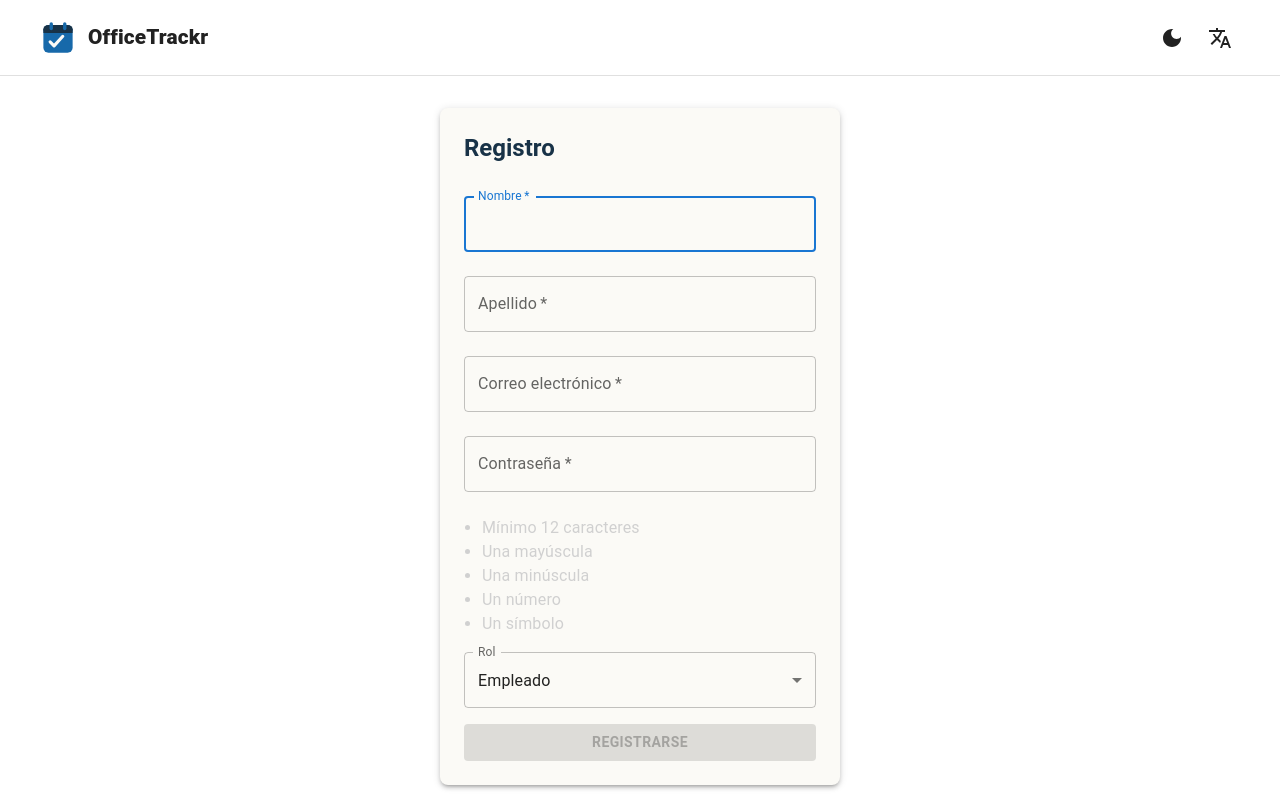
Test: Register › shows a mapped error message for a weak password (PW002)
The image size is (1280, 800).
Type "John" into the field labelled "Nombre *". click: (640, 224)
box: [464,196,816,252]
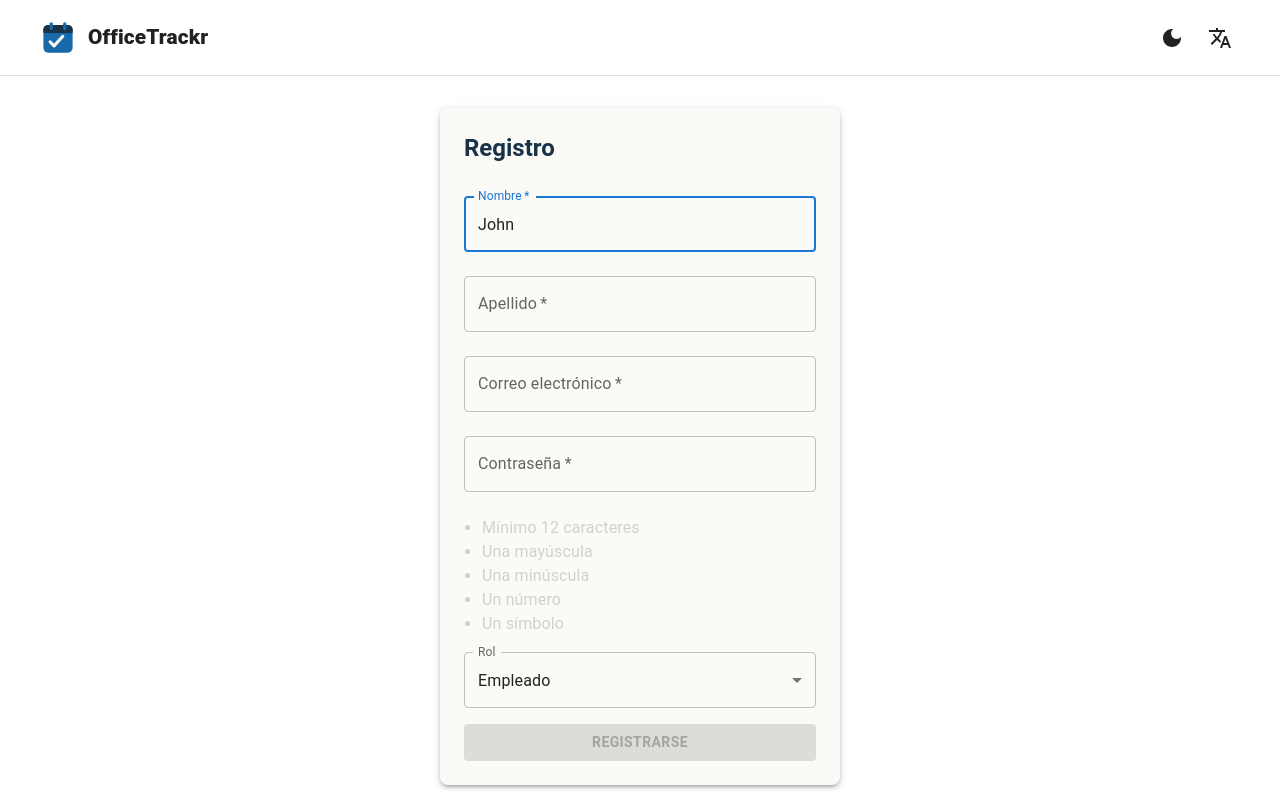
Type "Doe" into the field labelled "Apellido *". click: (640, 304)
box: [464,276,816,332]
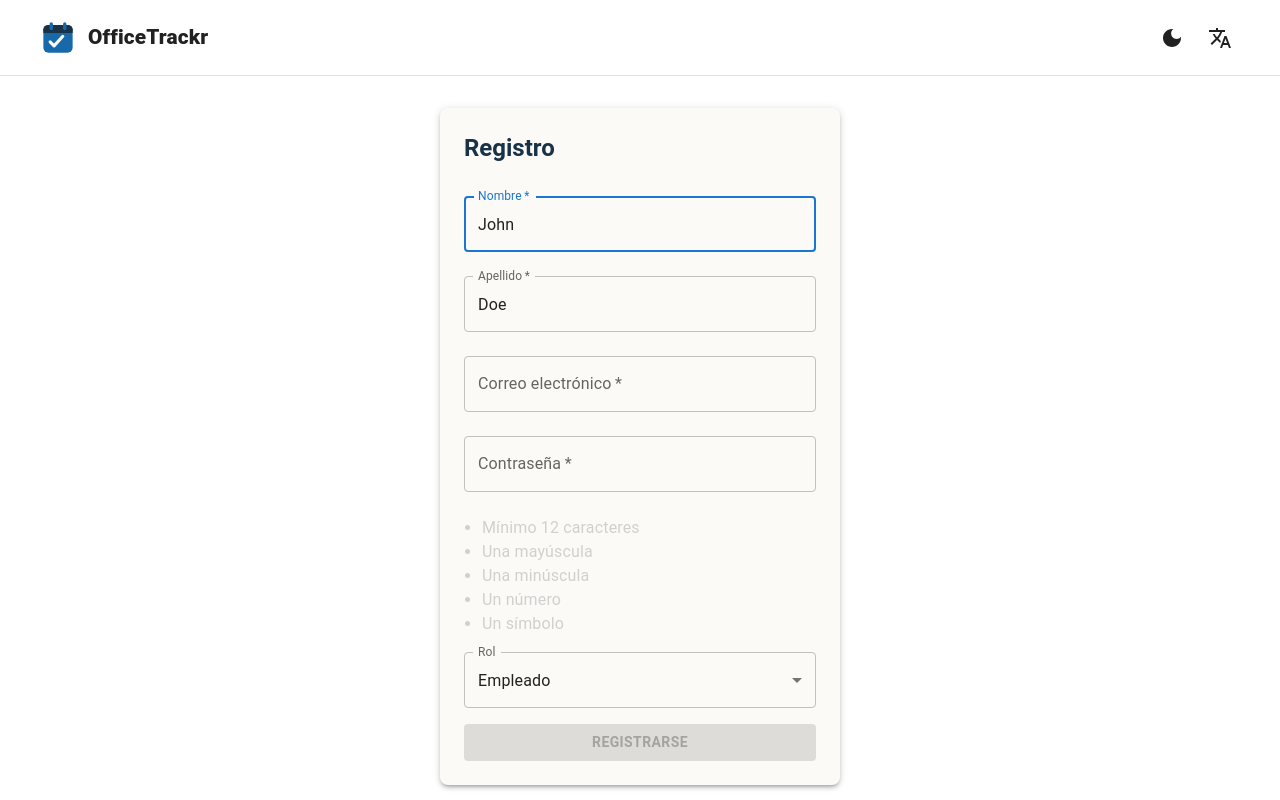
Type "john@example.com" into the field labelled "Correo electrónico *". click: (640, 384)
box: [464,356,816,412]
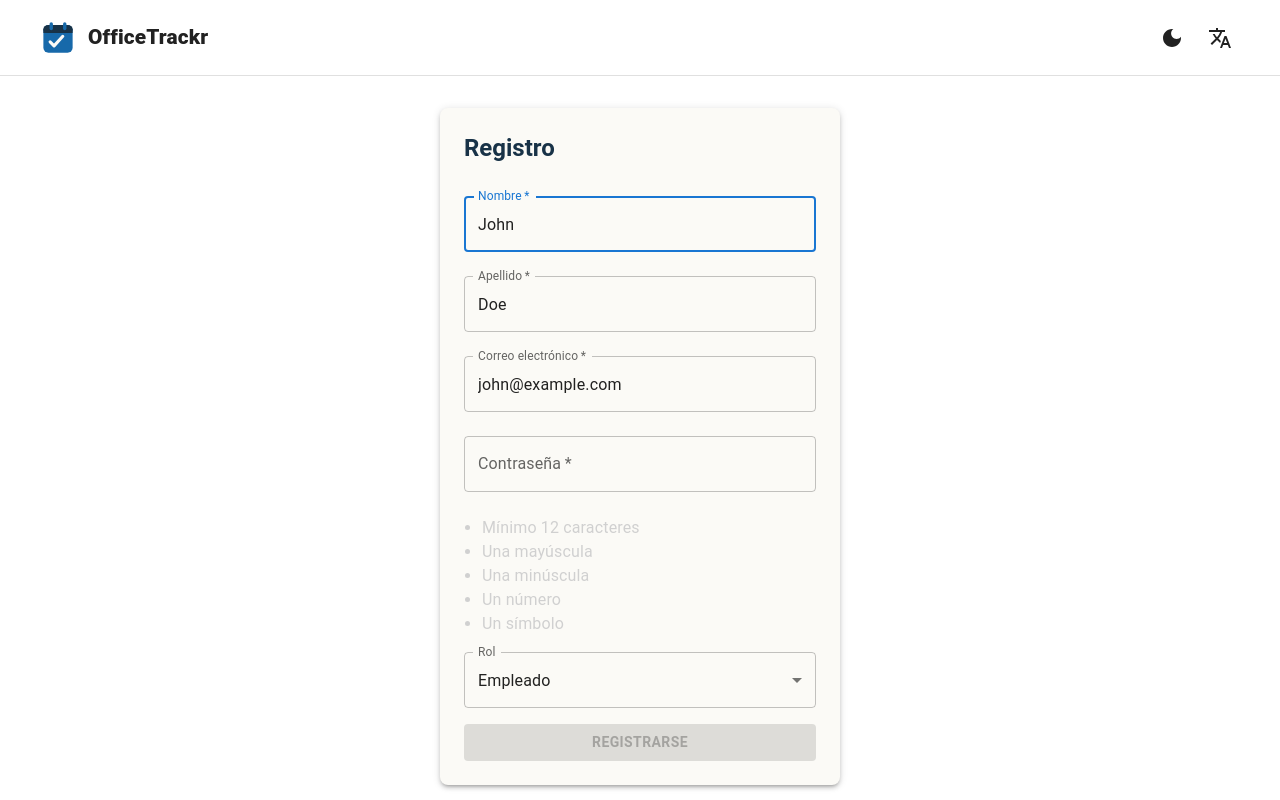
Type "Password123!!" into the password field labelled "Contraseña *". click: (640, 464)
box: [464,436,816,492]
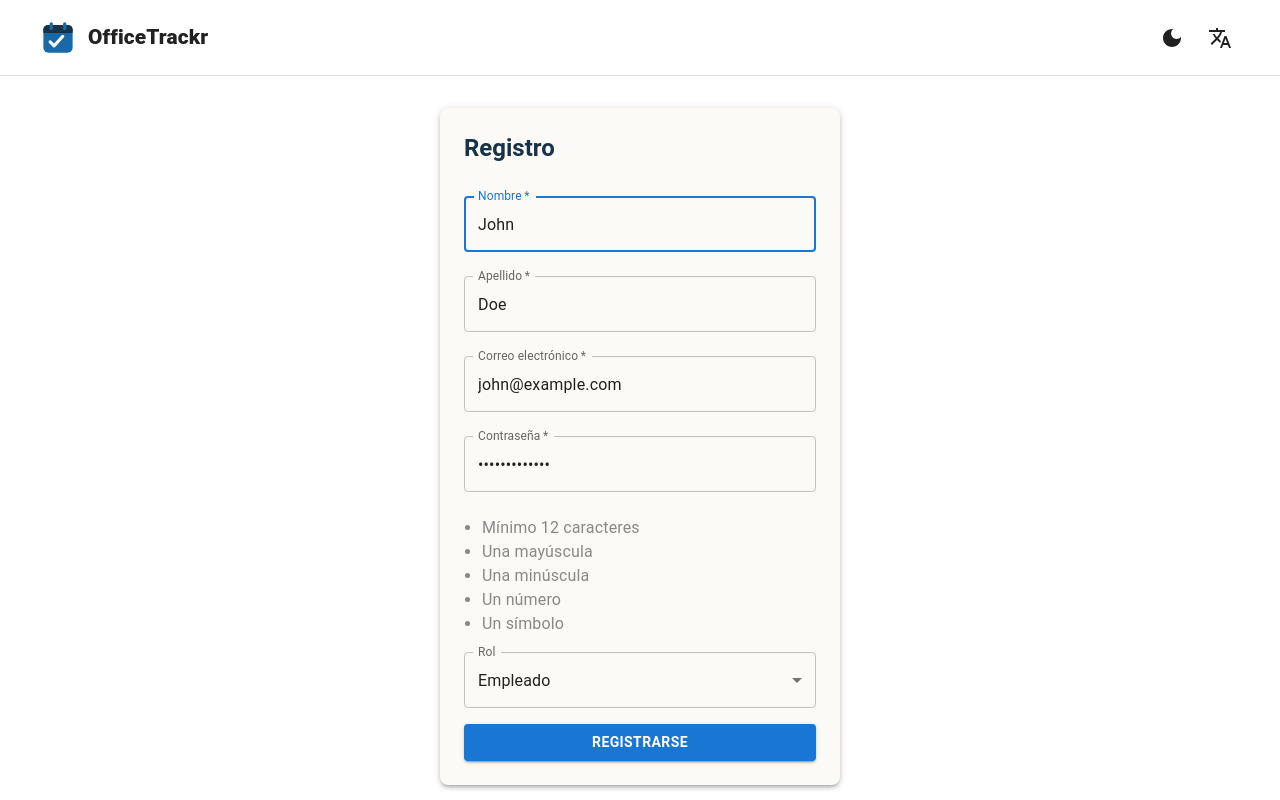
Click the button "Registrarse". click: (640, 742)
box: [464,724,816,760]
(page scrolled)
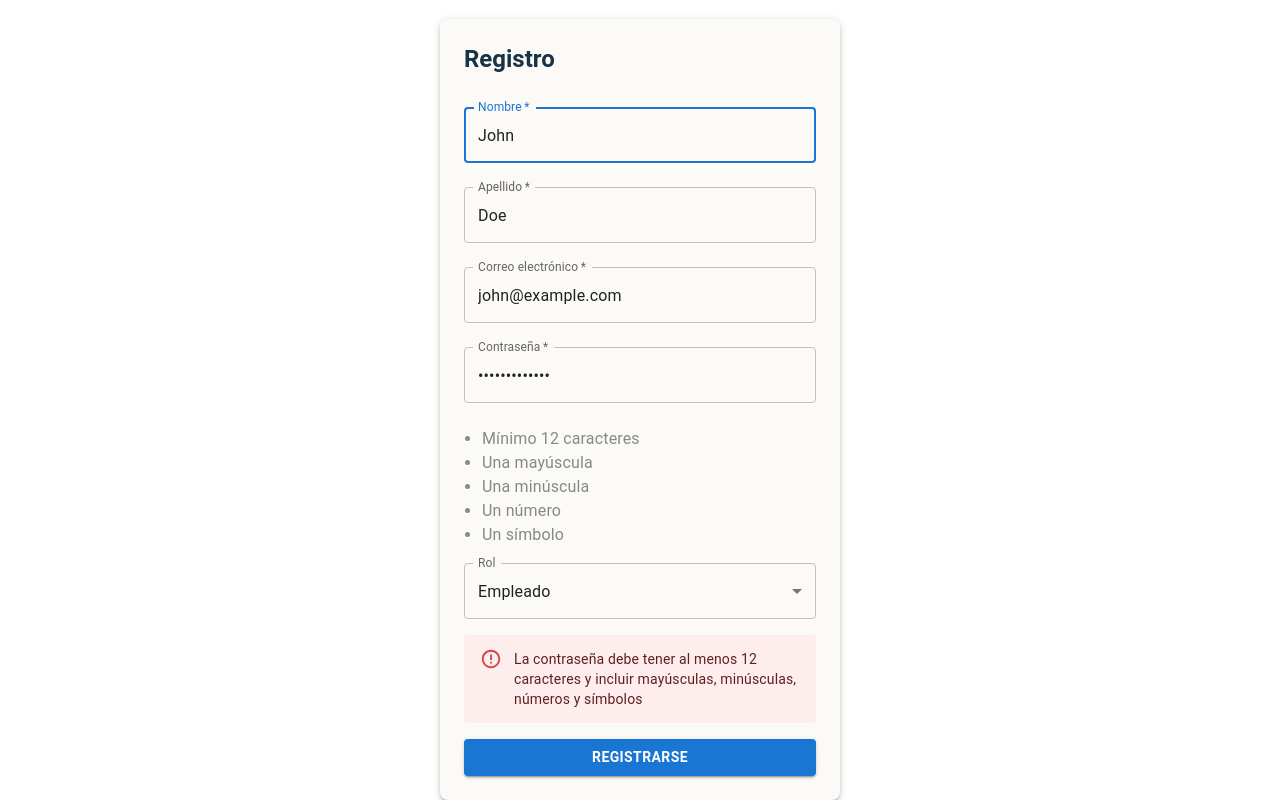
Result: the text "La contraseña debe tener al menos 12 caracteres y incluir mayúsculas, minúsculas, números y símbolos" is shown at [514,651,796,707]
